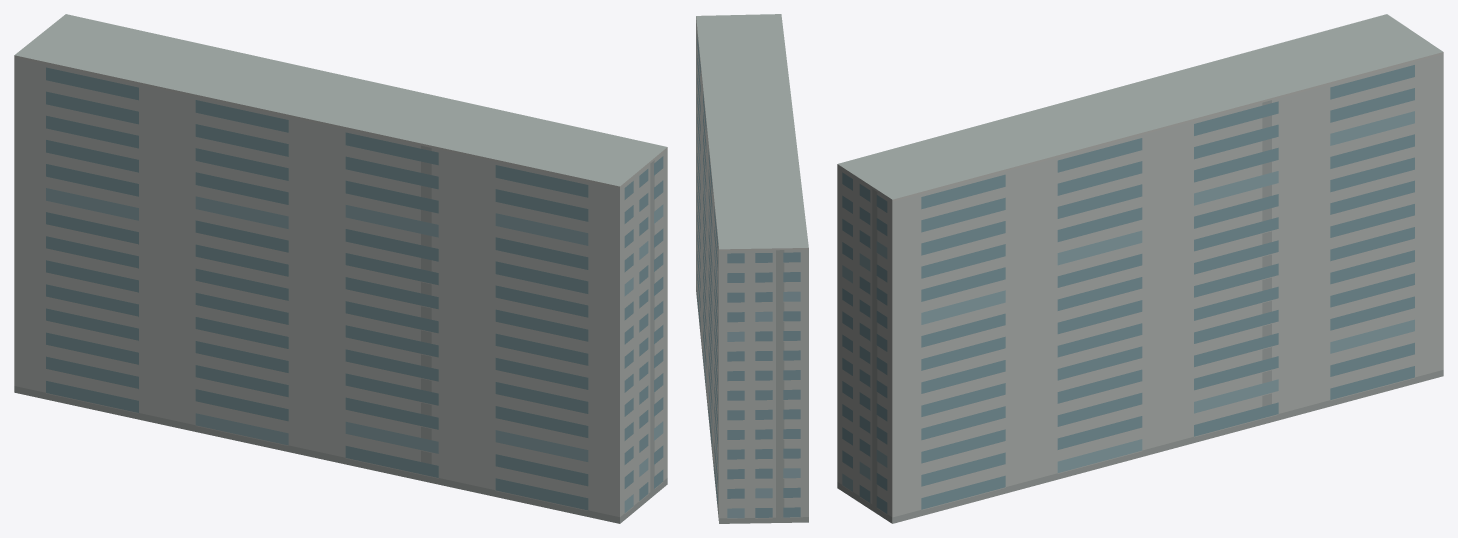
File: residential-56950038-dc48-471f-a52e-fe44fbd26366.glb
The picture shows the model from 3 angles, left to right: view 1: azimuth 30°, elevation 25°; view 2: azimuth 150°, elevation 25°; view 3: azimuth 270°, elevation 25°; orthographic projection. The views are drawn at different scales.
Visible parts, largest first — view 1: residential-56950038-dc48-471f-a52e-fe44fbd26366.tmp; view 2: residential-56950038-dc48-471f-a52e-fe44fbd26366.tmp; view 3: residential-56950038-dc48-471f-a52e-fe44fbd26366.tmp.
Part boxes in pixels (box(x1,y1,x2,y2)): residential-56950038-dc48-471f-a52e-fe44fbd26366.tmp: box(14, 14, 667, 523); residential-56950038-dc48-471f-a52e-fe44fbd26366.tmp: box(696, 14, 808, 523); residential-56950038-dc48-471f-a52e-fe44fbd26366.tmp: box(837, 14, 1443, 523).
Size of the model in its own units: 45.76 by 37.25 by 63.12.
